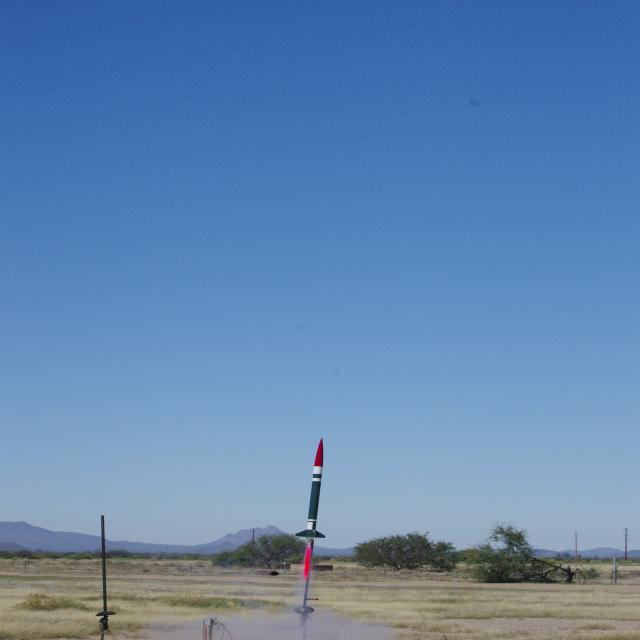Rocket: (296, 437, 326, 543)
